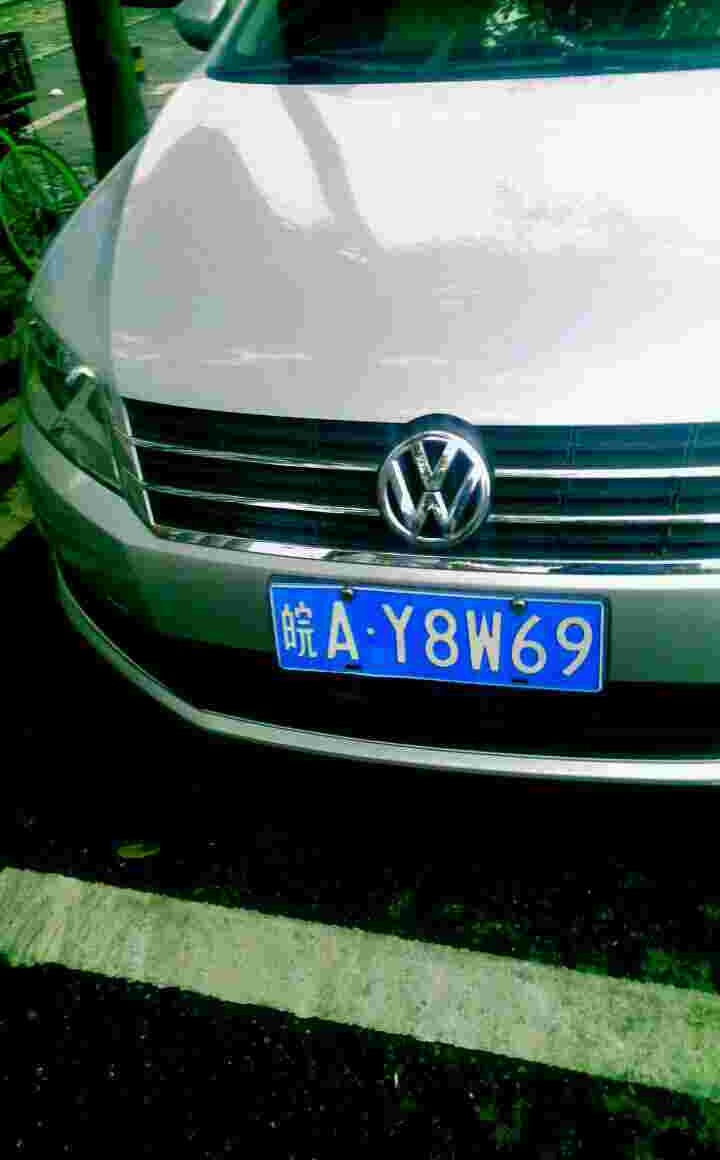license_plate: (256, 585, 616, 695)
